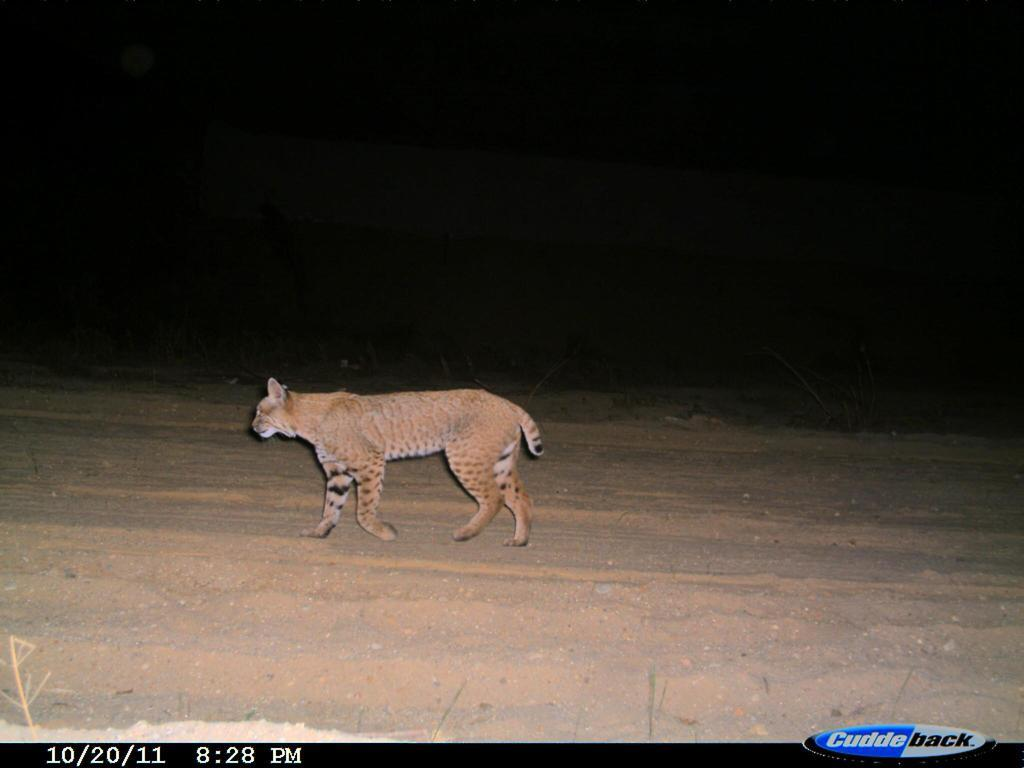bobcat: (249, 370, 551, 553)
